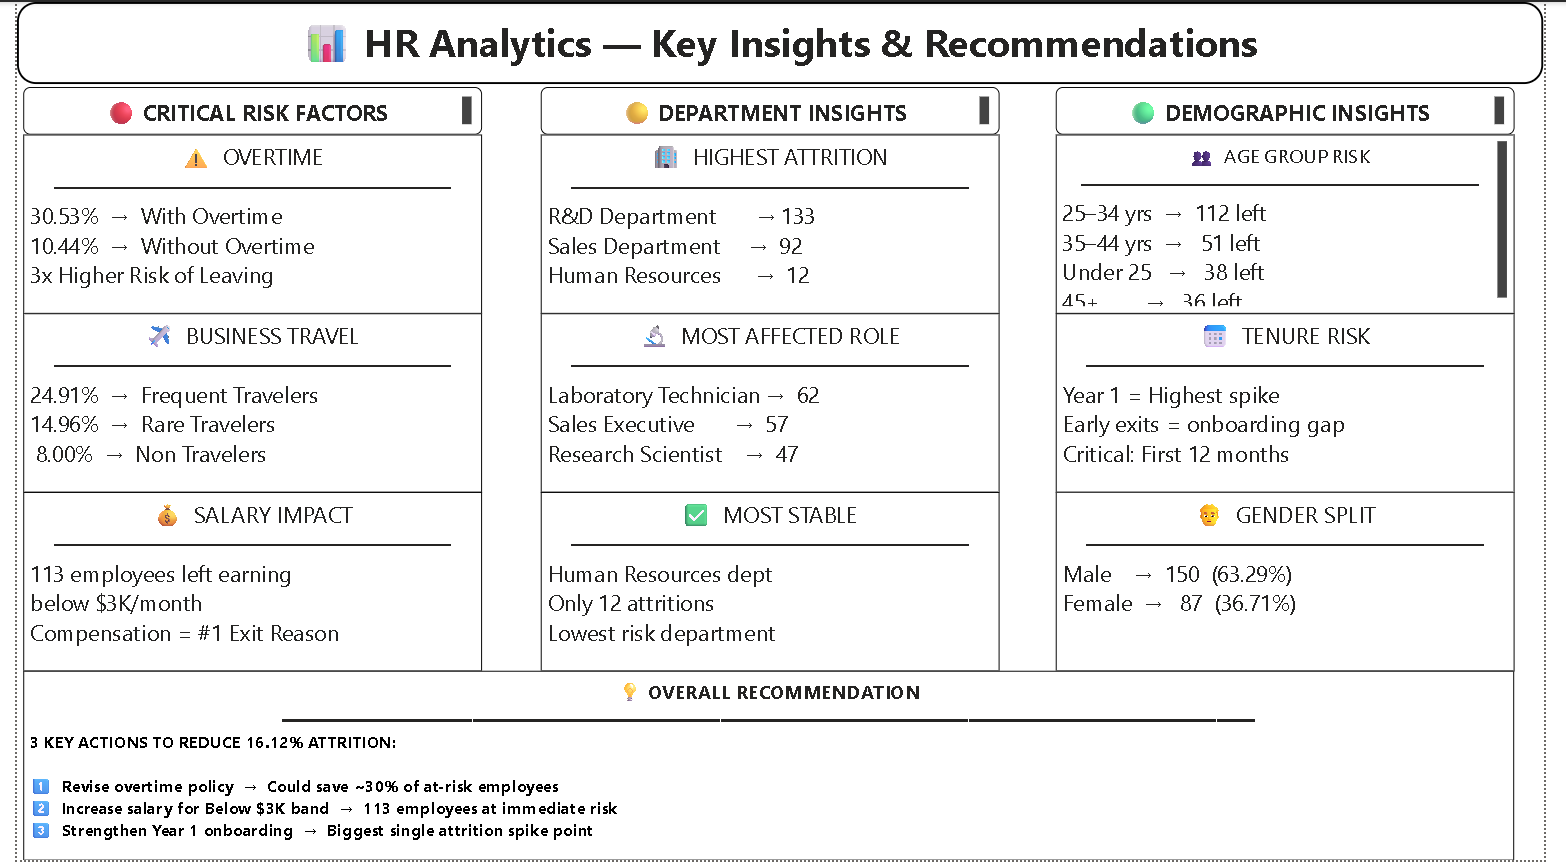

The dashboard page shown, as its layout file describes it:
{"tool":"powerbi","page":{"name":"Page 3","canvas":[1280,720],"ordinal":2},"visuals":[{"type":"textbox","box":[0,0,1280,68.9],"z":0},{"type":"textbox","box":[5.3,70.9,384.4,40],"z":1000},{"type":"textbox","box":[5.3,110.9,384.4,150],"z":2000},{"type":"textbox","box":[5.3,260.9,384.4,150],"z":3000},{"type":"textbox","box":[5.3,410.9,384.4,150],"z":4000},{"type":"textbox","box":[439.8,70.9,384.4,40],"z":5000},{"type":"textbox","box":[439.8,110.9,384.4,150],"z":5001},{"type":"textbox","box":[439.8,260.9,384.4,150],"z":5002},{"type":"textbox","box":[439.8,410.9,384.4,150],"z":5003},{"type":"textbox","box":[870.9,70.9,384.4,40],"z":5004},{"type":"textbox","box":[870.9,410.9,384.4,150],"z":5005},{"type":"textbox","box":[871.1,261.1,384.4,150],"z":5006},{"type":"textbox","box":[870.9,110.9,384.4,150],"z":5007},{"type":"textbox","box":[5.6,561.1,1250,158.9],"z":5008}]}

Visuals, with their boxes in screenshot pixels (x1, y1, x2, y2), scaled from the page's 1280x720 canvas onto the 1566x867 screenshot:
textbox: rect(0, 0, 1565, 83)
textbox: rect(6, 85, 477, 134)
textbox: rect(6, 134, 477, 314)
textbox: rect(6, 314, 477, 495)
textbox: rect(6, 495, 477, 675)
textbox: rect(538, 85, 1008, 134)
textbox: rect(538, 134, 1008, 314)
textbox: rect(538, 314, 1008, 495)
textbox: rect(538, 495, 1008, 675)
textbox: rect(1065, 85, 1536, 134)
textbox: rect(1065, 495, 1536, 675)
textbox: rect(1066, 314, 1536, 495)
textbox: rect(1065, 134, 1536, 314)
textbox: rect(7, 676, 1536, 866)
